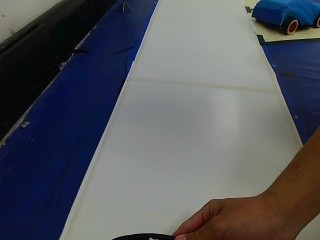car: (247, 1, 318, 37)
